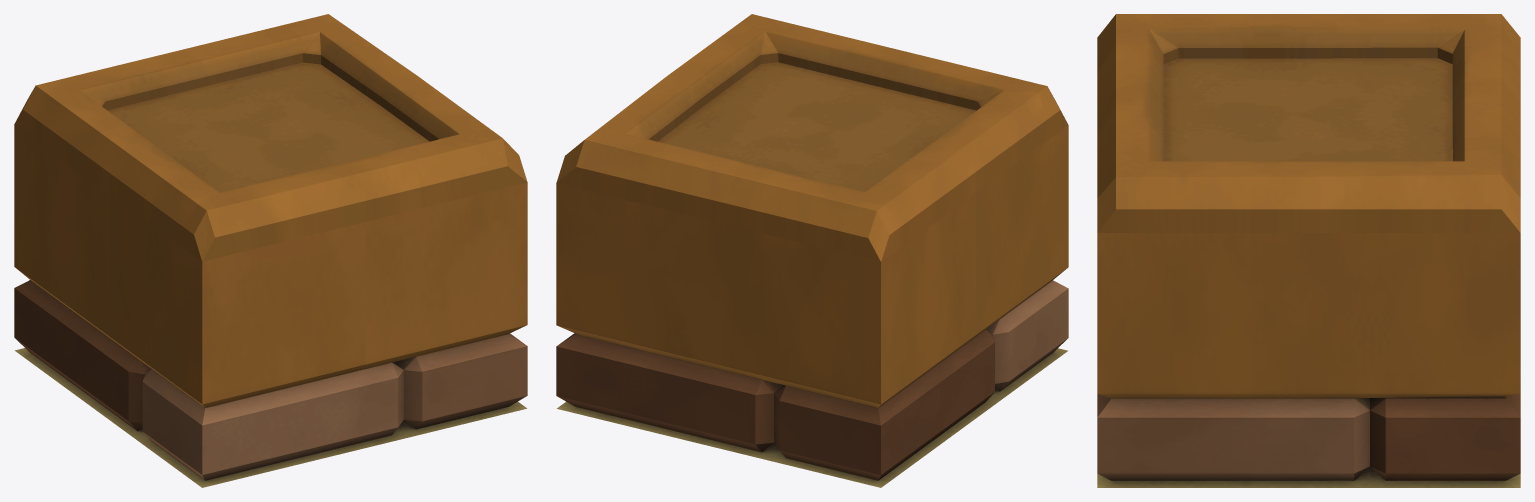
File: X-Mur2.FBX
3 views of the same model, side by side, from view 1: azimuth 30°, elevation 25°; view 2: azimuth 150°, elevation 25°; view 3: azimuth 270°, elevation 25° (orthographic). The views are drawn at different scales.
Parts seen in each view (by area): view 1: X-Mur; view 2: X-Mur; view 3: X-Mur.
Part boxes in pixels (bbox=[...]): X-Mur: bbox=[14, 14, 527, 487]; X-Mur: bbox=[556, 14, 1068, 487]; X-Mur: bbox=[1097, 14, 1520, 487].
Bounding box in the file's own units: 2 × 1.58 × 2.
